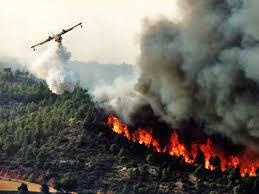fire: (107, 111, 257, 170)
